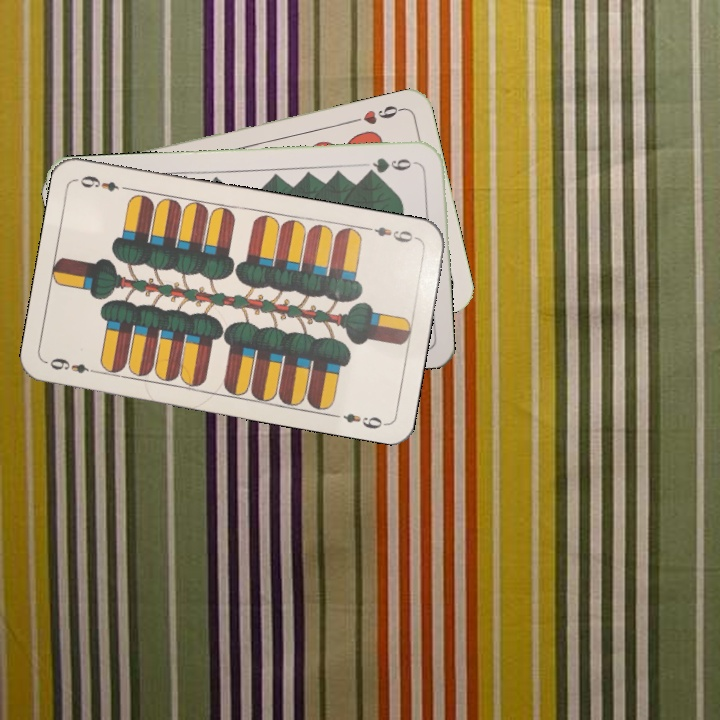E9: (45, 353, 102, 377), (362, 222, 420, 245)
G9: (362, 154, 420, 176)
H9: (348, 101, 406, 127)
